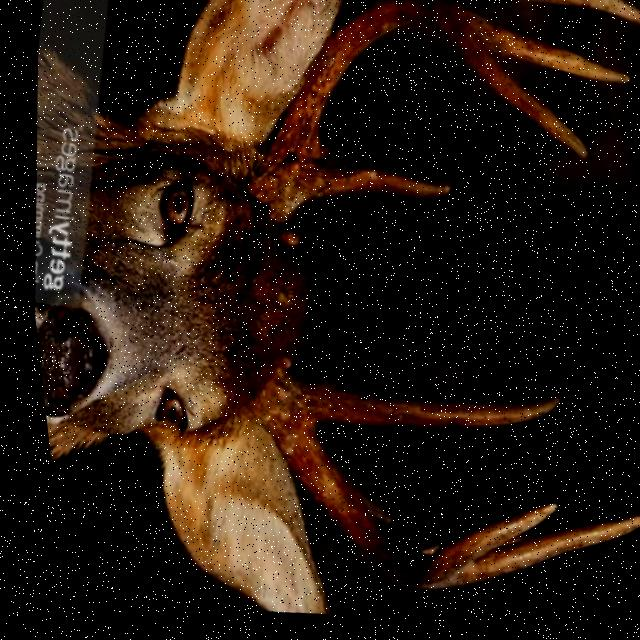L-F: (247, 0, 584, 226)
L-G1: (300, 167, 445, 206)
R-F: (242, 381, 546, 596)
R-G1: (287, 385, 550, 436)
